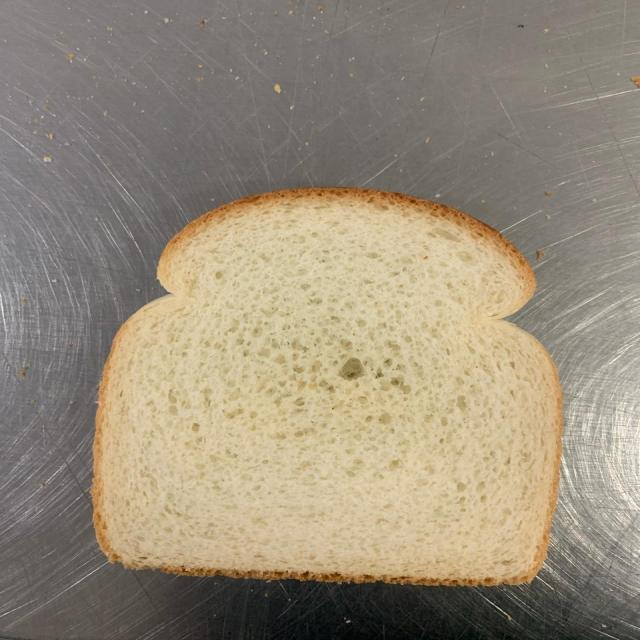sliced_bread: (93, 189, 565, 585)
